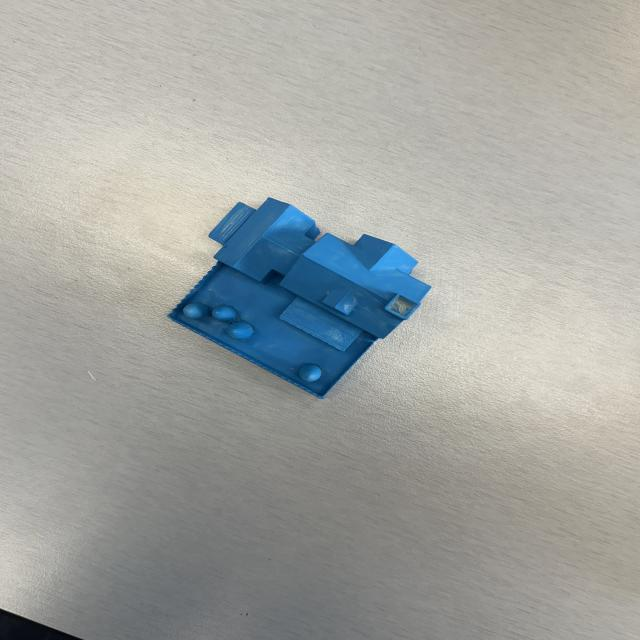house: (168, 197, 434, 401)
